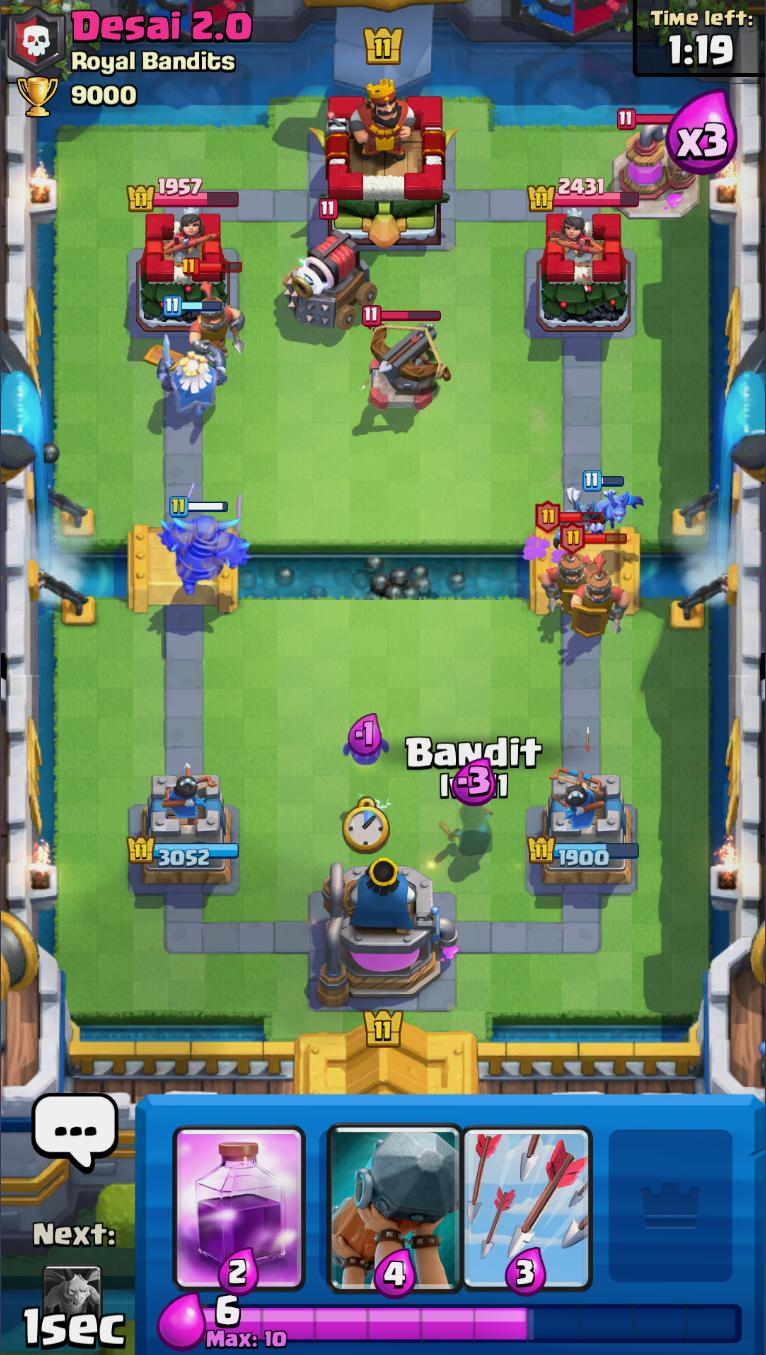ArrowDeck: (456, 1094, 598, 1295)
BattleRamDeck: (311, 1095, 455, 1296)
Elixir: (203, 1295, 744, 1350)
ElixirCollector: (612, 109, 702, 221)
Empty: (598, 1094, 743, 1296)
EnemyTower: (533, 208, 631, 331), (133, 210, 229, 335)
KingTower: (308, 82, 456, 248)
MinionsNext: (40, 1264, 105, 1344)
MyElectroSpirit: (343, 735, 391, 766)
MyKingTower: (319, 856, 458, 1009)
MyMinion: (555, 490, 600, 547), (593, 479, 641, 529)
MyPekka: (156, 483, 253, 598)
MyPrincessTower: (524, 771, 639, 887), (125, 769, 238, 887)
MyPrincessTowerHP: (125, 836, 238, 868), (525, 835, 637, 867)
MyRoyaleGhost: (158, 295, 228, 420)
PrincessTower: (546, 213, 603, 264), (144, 214, 200, 264)
RageDeck: (167, 1095, 310, 1296)
RoyalRecruit: (563, 521, 626, 640), (181, 258, 244, 362), (534, 501, 592, 611)
Sparky: (281, 199, 379, 330)
TowerPrincessHP: (126, 178, 239, 213), (526, 178, 639, 212)
XBow: (357, 304, 451, 417)
